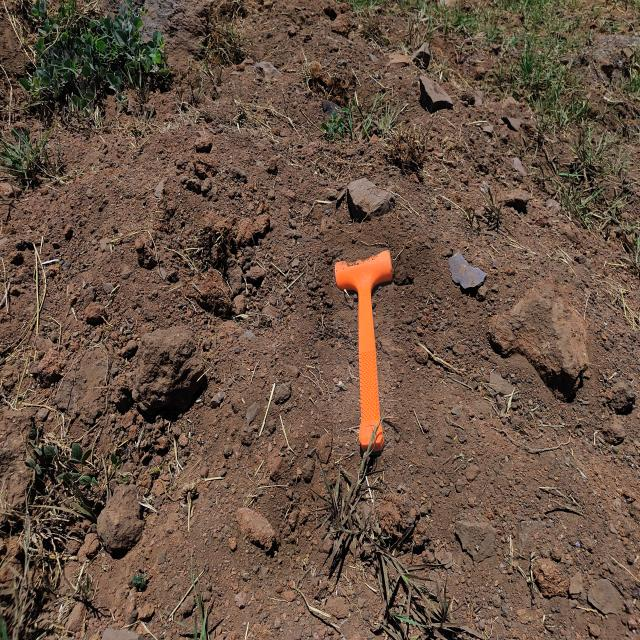Orange_hammer: (333, 248, 394, 455)
